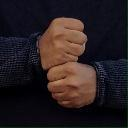hand: (38, 16, 87, 69), (47, 62, 97, 109)
